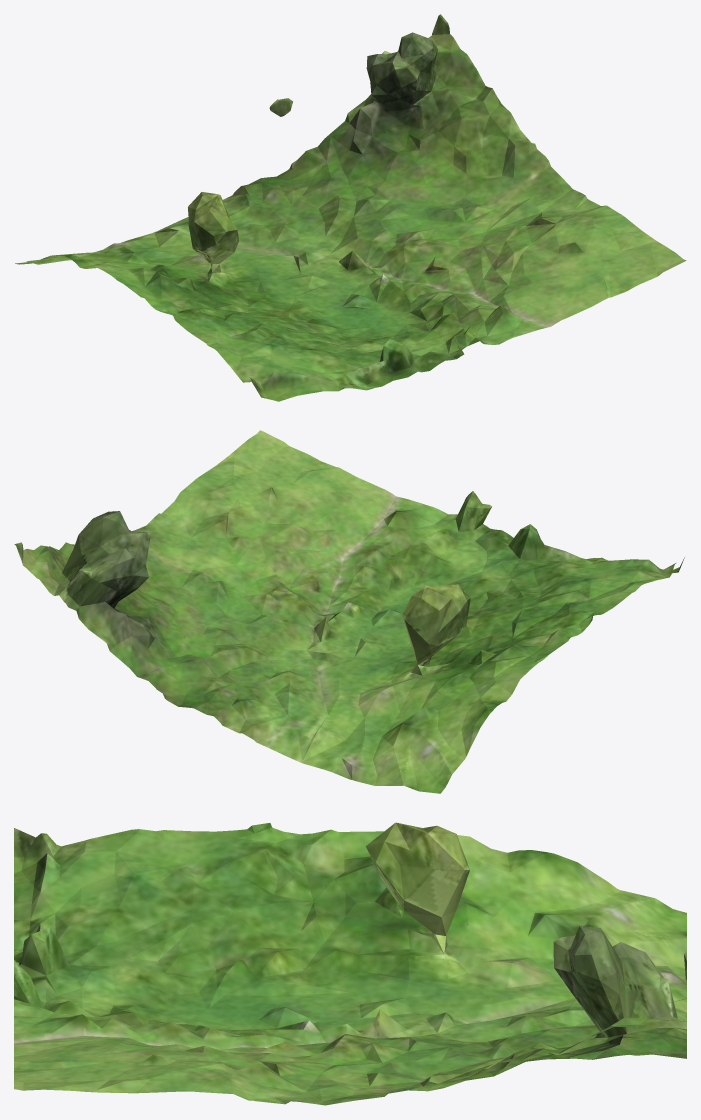
3 renders of one model, top to bottom at view 1: azimuth 30°, elevation 25°; view 2: azimuth 150°, elevation 25°; view 3: azimuth 270°, elevation 25°, orthographic. The views are drawn at different scales.
Bounding box in the file's own units: 26.11 × 10.2 × 26.11.
Materials: 3 (3 with a texture image).
